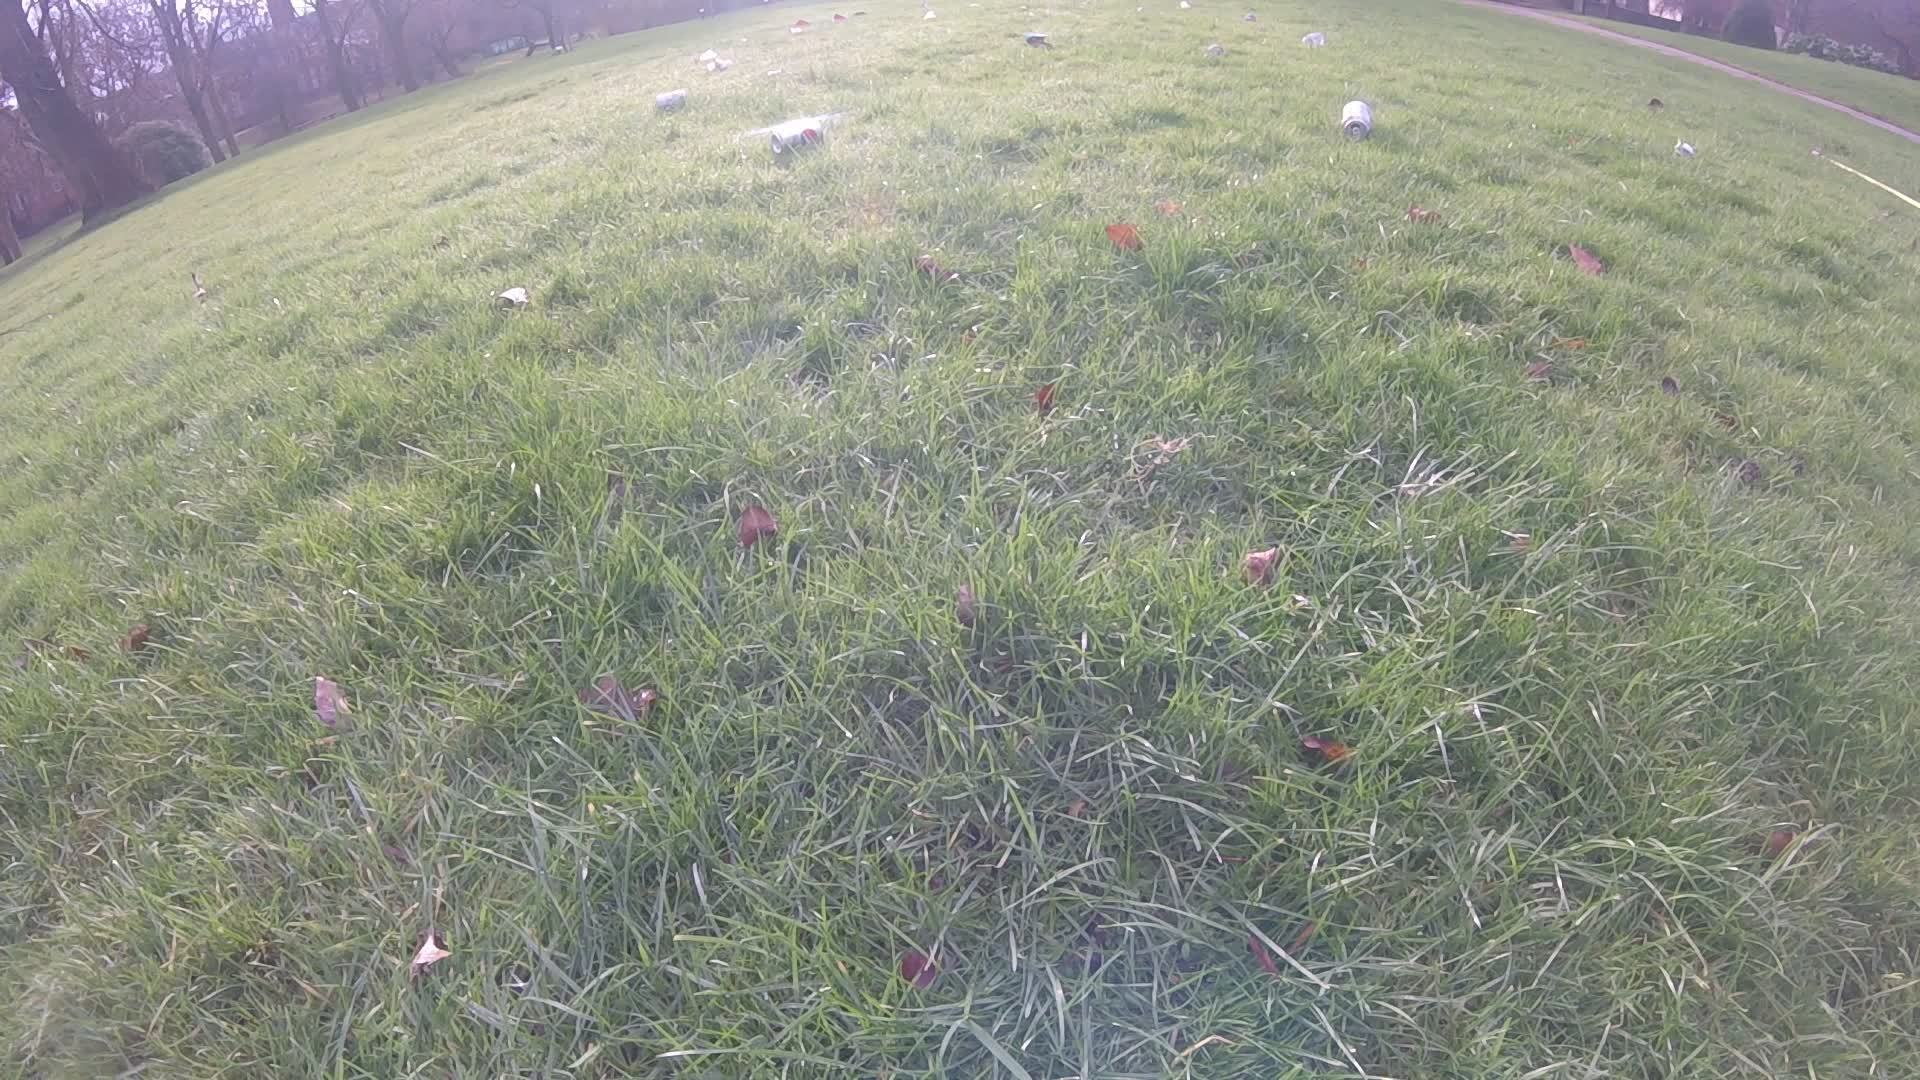litter: (764, 113, 822, 152), (1340, 100, 1371, 140), (651, 88, 686, 112), (1015, 32, 1052, 46), (1673, 142, 1698, 162), (1199, 42, 1228, 57), (1294, 36, 1328, 47), (1636, 99, 1667, 112), (705, 65, 733, 75), (920, 9, 942, 22), (696, 51, 721, 61), (795, 20, 815, 29), (833, 15, 866, 20), (1241, 15, 1253, 24), (1182, 3, 1193, 11)
